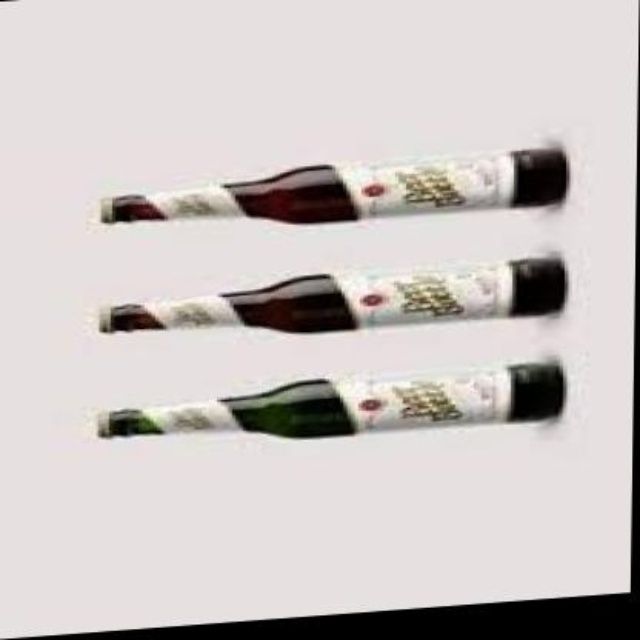trash: (97, 360, 565, 437), (98, 257, 566, 332), (100, 148, 568, 222)
